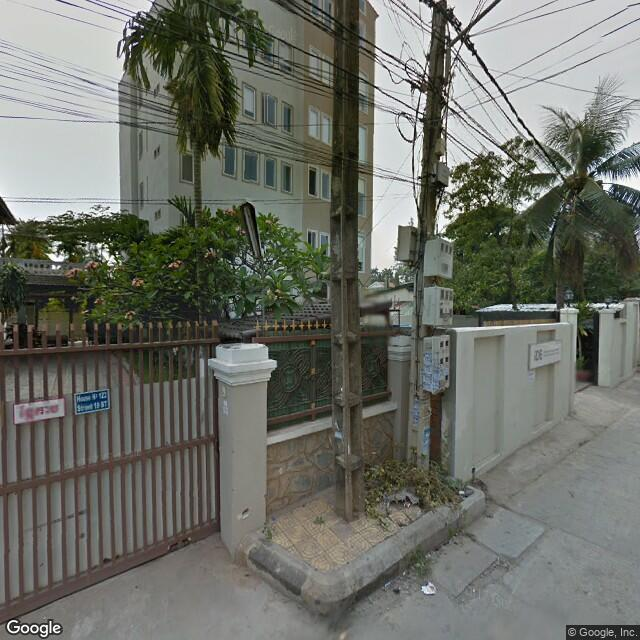litter: (378, 492, 424, 516), (420, 582, 441, 597), (390, 581, 400, 595)
